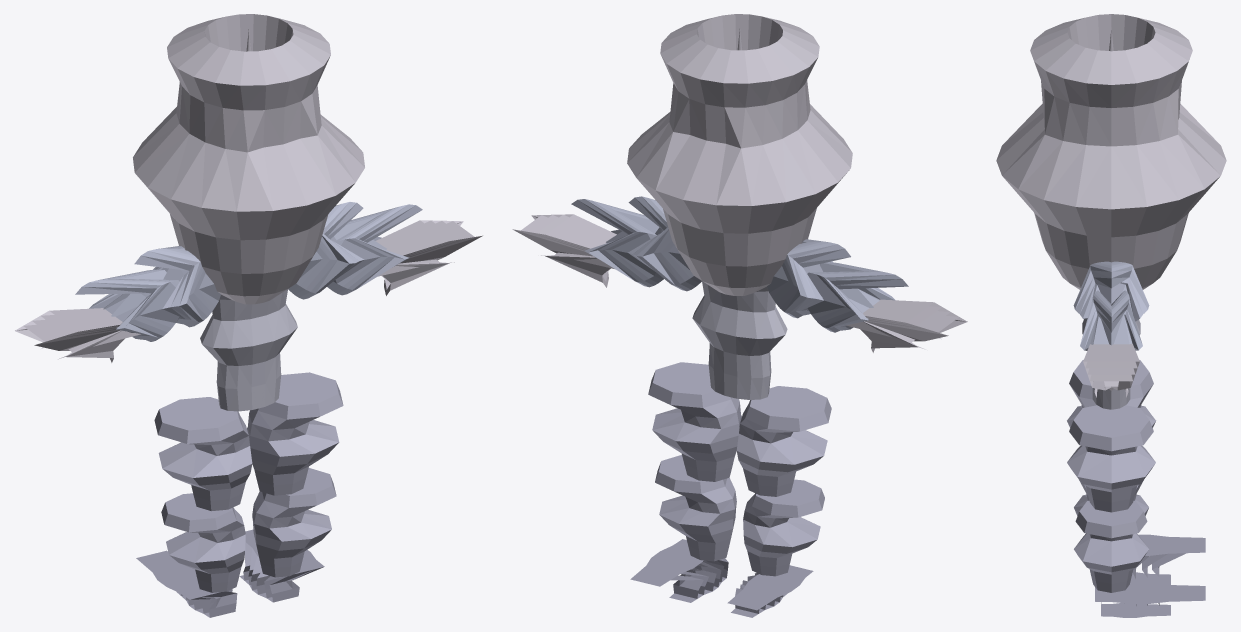
3 renders of one model, left to right at view 1: azimuth 30°, elevation 25°; view 2: azimuth 150°, elevation 25°; view 3: azimuth 270°, elevation 25°, orthographic. The views are drawn at different scales.
Visible parts, largest first — view 1: Head, Leg_L_Upper, Leg_R_Upper, Torso, Leg_R_Lower, Leg_L_Lower, Arm_L_Lower, Hand_L, Hand_R, Arm_R_Lower, Arm_L_Upper, Arm_R_Upper (+2 smaller); view 2: Head, Leg_L_Upper, Leg_R_Upper, Torso, Leg_R_Lower, Leg_L_Lower, Arm_L_Lower, Hand_L, Hand_R, Arm_R_Lower, Arm_L_Upper, Foot_R (+2 smaller); view 3: Head, Leg_R_Upper, Leg_R_Lower, Foot_R, Arm_R_Upper, Arm_R_Lower, Hand_R, Foot_L, Leg_L_Upper, Torso, Leg_L_Lower.
Part boxes in pixels (bbox=[...]): Head: bbox=[133, 14, 364, 304]; Leg_L_Upper: bbox=[154, 397, 252, 511]; Leg_R_Upper: bbox=[247, 372, 343, 495]; Torso: bbox=[200, 289, 297, 411]; Leg_R_Lower: bbox=[252, 468, 336, 577]; Leg_L_Lower: bbox=[161, 493, 245, 592]; Arm_L_Lower: bbox=[75, 269, 179, 341]; Hand_L: bbox=[15, 308, 140, 362]; Hand_R: bbox=[375, 220, 482, 295]; Arm_R_Lower: bbox=[327, 204, 422, 295]; Arm_L_Upper: bbox=[134, 246, 220, 327]; Arm_R_Upper: bbox=[288, 202, 363, 299]; Head: bbox=[627, 14, 852, 295]; Leg_L_Upper: bbox=[736, 386, 831, 496]; Leg_R_Upper: bbox=[648, 362, 741, 481]; Torso: bbox=[692, 281, 787, 399]; Leg_R_Lower: bbox=[655, 455, 736, 561]; Leg_L_Lower: bbox=[743, 479, 824, 576]; Arm_L_Lower: bbox=[807, 262, 908, 332]; Hand_L: bbox=[846, 299, 967, 352]; Hand_R: bbox=[512, 214, 616, 287]; Arm_R_Lower: bbox=[571, 199, 663, 287]; Arm_L_Upper: bbox=[767, 239, 850, 318]; Foot_R: bbox=[630, 539, 728, 602]; Head: bbox=[996, 14, 1226, 289]; Leg_R_Upper: bbox=[1067, 405, 1155, 512]; Leg_R_Lower: bbox=[1074, 500, 1148, 592]; Foot_R: bbox=[1095, 582, 1205, 617]; Arm_R_Upper: bbox=[1073, 261, 1149, 321]; Arm_R_Lower: bbox=[1080, 290, 1142, 350]; Hand_R: bbox=[1083, 343, 1139, 397]; Foot_L: bbox=[1130, 534, 1205, 584]; Leg_L_Upper: bbox=[1067, 360, 1155, 427]; Torso: bbox=[1082, 320, 1140, 409]; Leg_L_Lower: bbox=[1074, 480, 1148, 515].
Size of the model in its own units: 0.5791 by 0.7085 by 0.2606.
